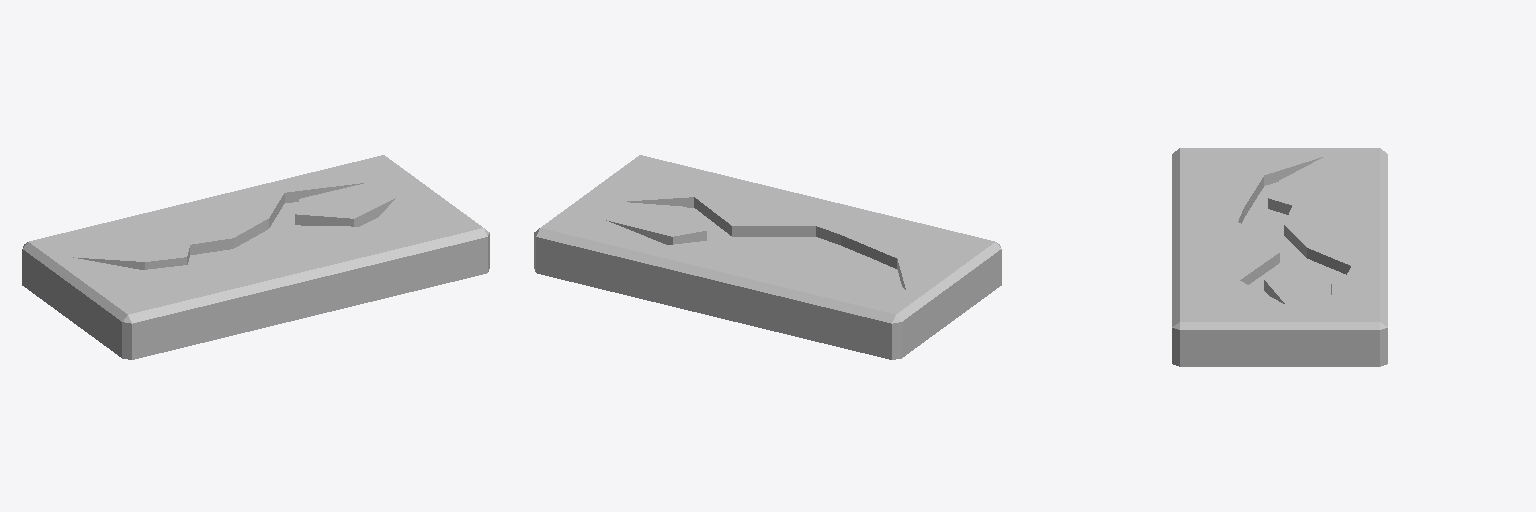
The model's file is Grave_1_5.obj.
The picture shows the model from 3 angles: view 1: azimuth 30°, elevation 25°; view 2: azimuth 150°, elevation 25°; view 3: azimuth 270°, elevation 25°; orthographic projection.
Visible parts, largest first — view 1: Grave_1_5; view 2: Grave_1_5; view 3: Grave_1_5.
Part boxes in pixels (x1,y1,x2,y2): Grave_1_5: (22,155,489,359); Grave_1_5: (534,155,1001,359); Grave_1_5: (1172,148,1387,366).
Bounding box in the file's own units: 1.69 × 0.1866 × 0.8601.